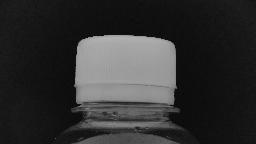Good Cap: (68, 30, 184, 118)
